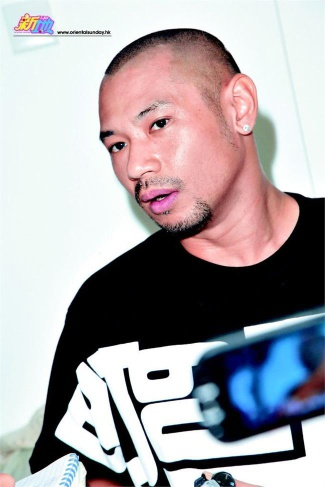male: (88, 28, 291, 242)
